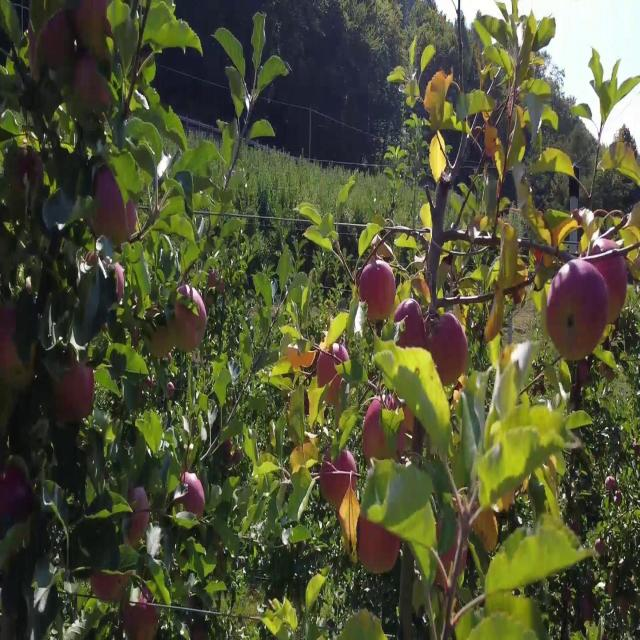apple: (544, 257, 606, 361), (92, 163, 136, 245), (428, 312, 470, 388), (592, 234, 629, 313), (364, 398, 408, 464), (36, 7, 73, 84), (376, 398, 419, 462), (356, 519, 402, 578), (596, 248, 629, 325), (172, 284, 208, 354), (436, 511, 467, 590), (4, 327, 39, 395), (92, 170, 125, 240), (56, 348, 88, 420), (360, 263, 397, 325), (320, 447, 356, 510), (76, 1, 113, 62), (0, 305, 28, 384), (60, 362, 96, 423), (0, 462, 34, 526), (364, 398, 395, 464), (72, 56, 107, 110), (72, 0, 111, 48), (8, 149, 44, 199), (124, 590, 160, 639), (436, 511, 463, 574), (544, 284, 573, 341), (396, 298, 426, 350), (577, 305, 607, 357), (128, 483, 151, 544), (108, 199, 138, 245), (180, 469, 207, 519), (92, 568, 127, 606), (472, 511, 500, 553), (556, 335, 587, 368), (316, 348, 338, 389), (288, 341, 317, 370), (152, 327, 175, 363), (284, 348, 316, 372), (0, 305, 19, 341), (324, 376, 345, 407), (532, 234, 553, 265), (224, 433, 243, 466), (604, 476, 623, 507), (284, 348, 308, 372), (4, 385, 15, 430), (484, 312, 499, 343), (208, 270, 226, 295), (292, 447, 307, 475), (336, 348, 351, 375), (300, 348, 317, 370), (116, 263, 125, 302), (584, 597, 595, 624)
